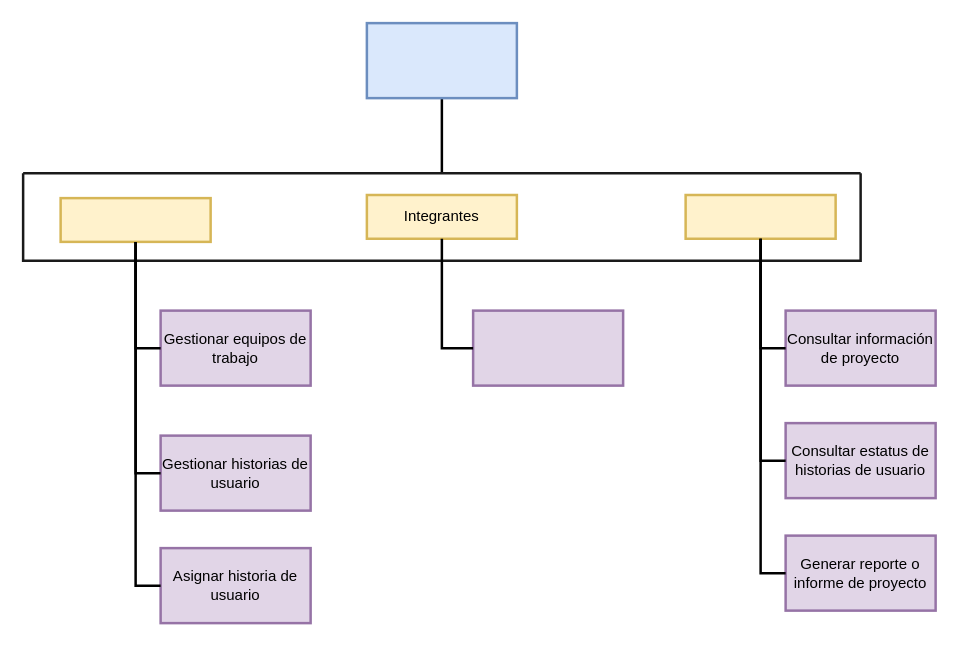
This 958x645 diagram has some shape labels left out. Here are the shapes that lost their labels. From the top down, the centre of each, then its label:
At [441,60]: "SAPES".
At [135,219]: "Proyectos".
At [760,216]: "Tablero".
At [547,347]: "Gestionar integrantes".
